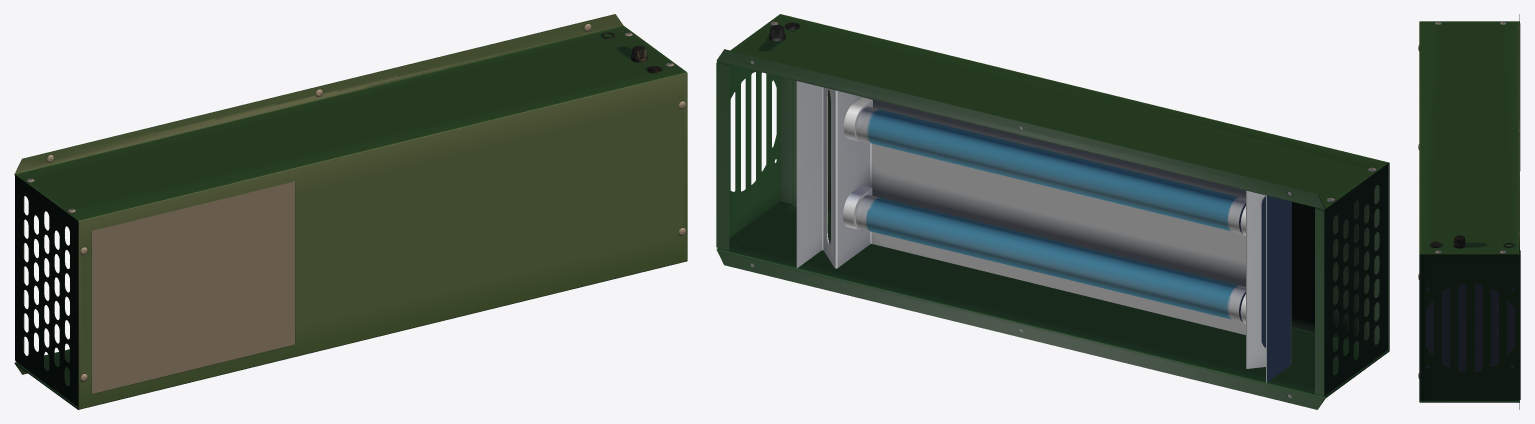
3 renders of one model, left to right at view 1: azimuth 30°, elevation 25°; view 2: azimuth 150°, elevation 25°; view 3: azimuth 270°, elevation 25°, orthographic. The views are drawn at different scales.
Visible parts, largest first — view 1: Группа; view 2: Группа, Группа.2; view 3: Группа.
Boxes of the visible parts, x1=… form: Группа: x1=14, y1=14, x2=687, y2=409; Группа: x1=716, y1=14, x2=1389, y2=409; Группа.2: x1=843, y1=97, x2=872, y2=141; Группа: x1=1418, y1=14, x2=1520, y2=409.
Size of the model in its own units: 679 by 230 by 126.
Materials: 1 (1 with a texture image).
